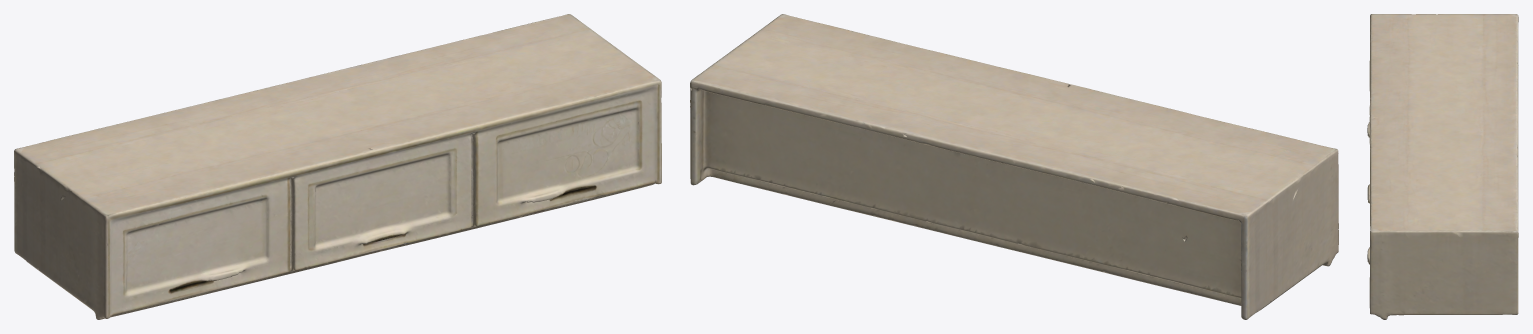
Rendered from wall-cabinet.glb.
3 renders of one model, left to right at view 1: azimuth 30°, elevation 25°; view 2: azimuth 150°, elevation 25°; view 3: azimuth 270°, elevation 25°, orthographic. The views are drawn at different scales.
Size of the model in its own units: 2 by 0.3806 by 0.586.
Materials: 1 (1 with a texture image).
